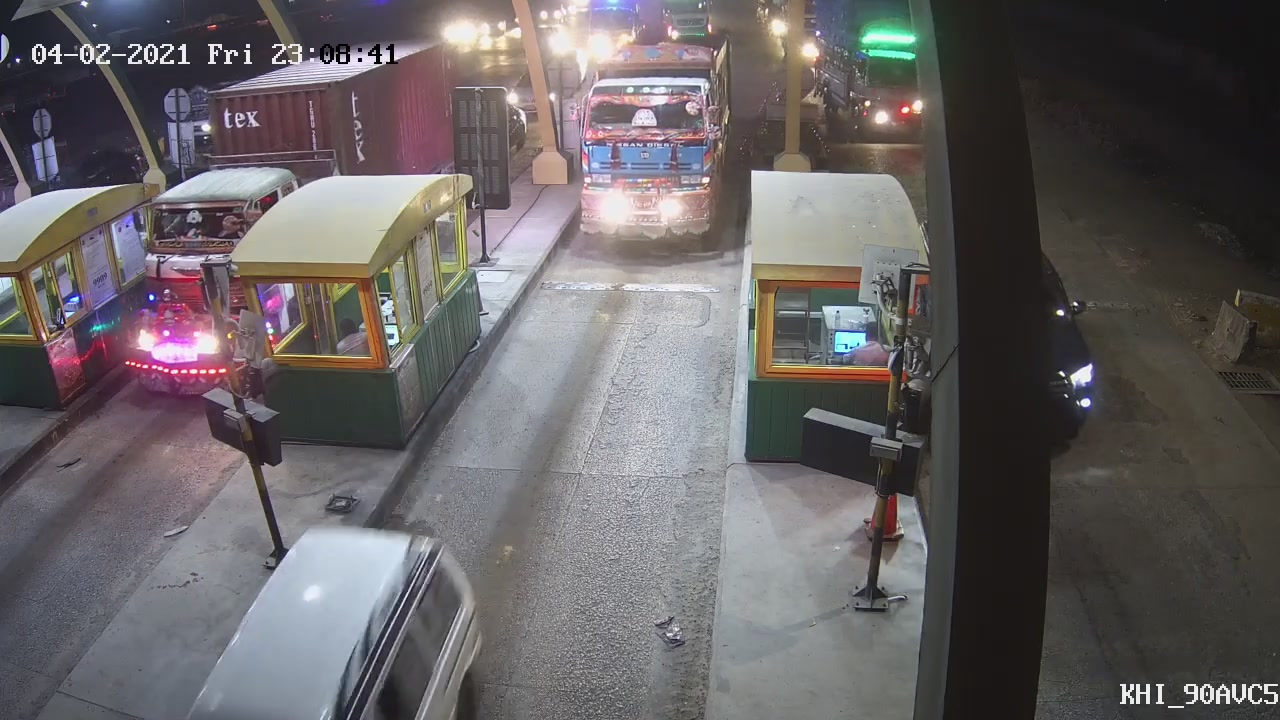F5: (572, 31, 746, 246)
